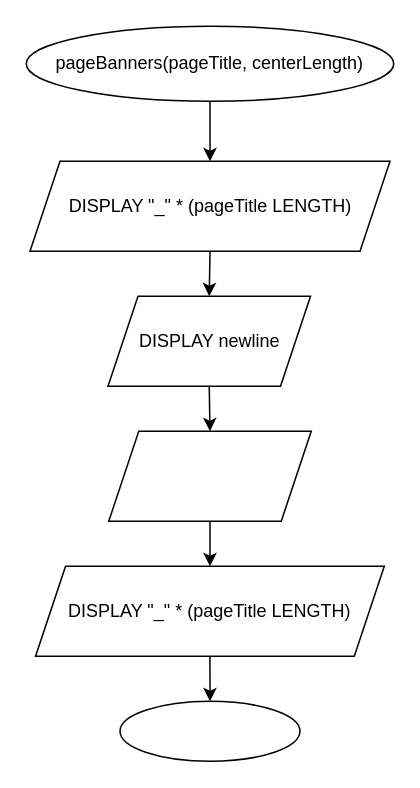
This 420x788 diagram has some shape labels left out. Each missing label, with the centre of its shape:
DISPLAY pageTitle: point 209,475
END: point 209,730
